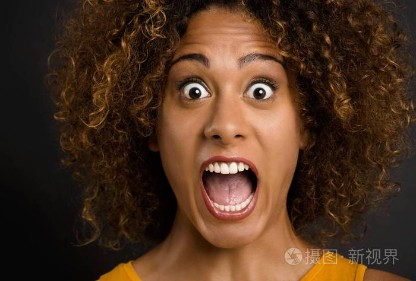张嘴: (199, 151, 267, 226)
